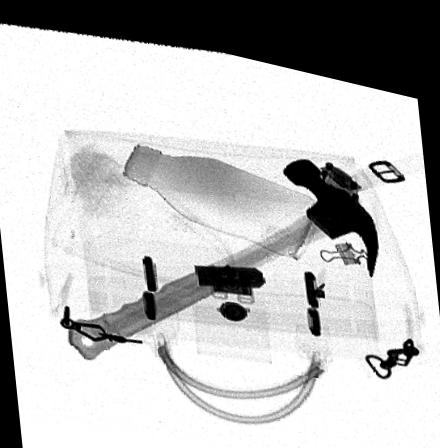Hammer: (67, 143, 379, 356)
